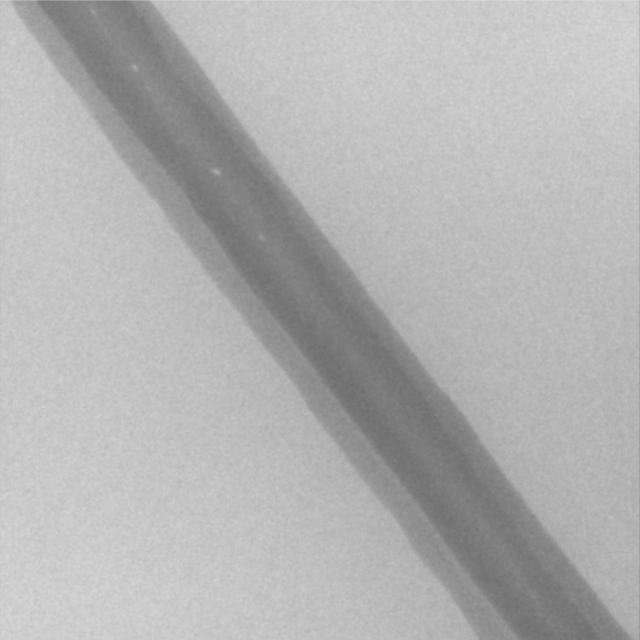air hole: (210, 166, 223, 177), (130, 63, 139, 72), (258, 233, 266, 243), (90, 8, 98, 17)
